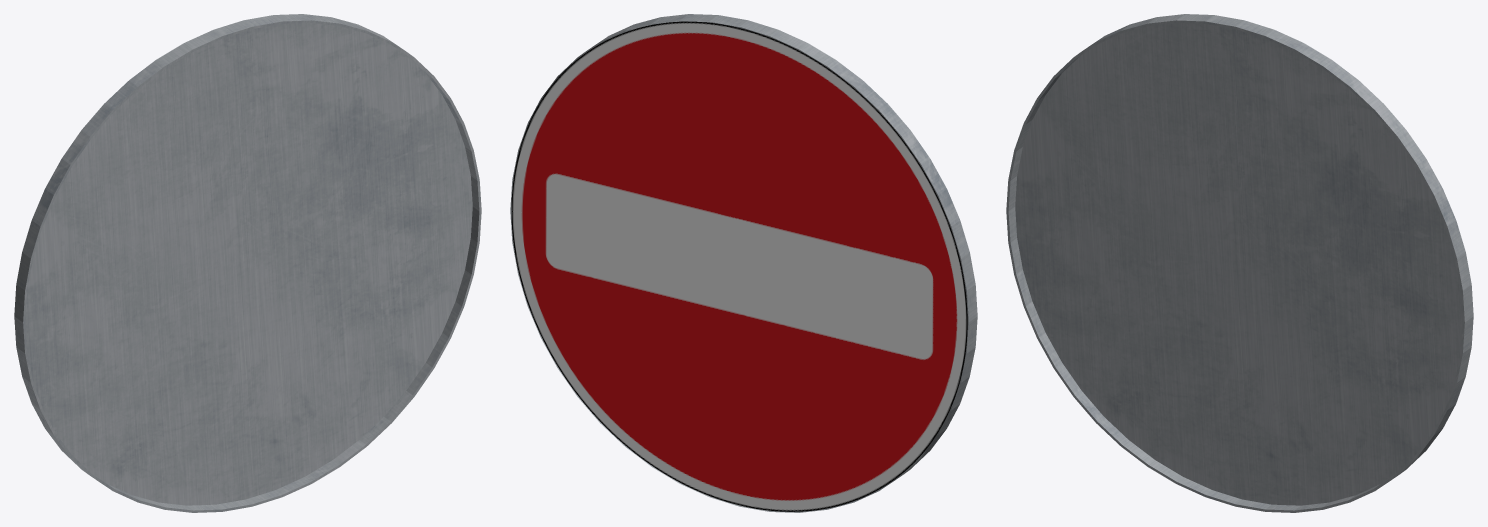
File: No_entry.fbx
The picture shows the model from 3 angles, left to right: view 1: azimuth 30°, elevation 25°; view 2: azimuth 150°, elevation 25°; view 3: azimuth 330°, elevation 25°; orthographic projection.
Visible parts, largest first — view 1: No entry; view 2: No entry; view 3: No entry.
Part boxes in pixels (x1,y1,x2,y2): No entry: (14, 14, 481, 512); No entry: (510, 14, 977, 512); No entry: (1006, 14, 1473, 512).
Size of the model in its own units: 0.02 by 0.6 by 0.6.
